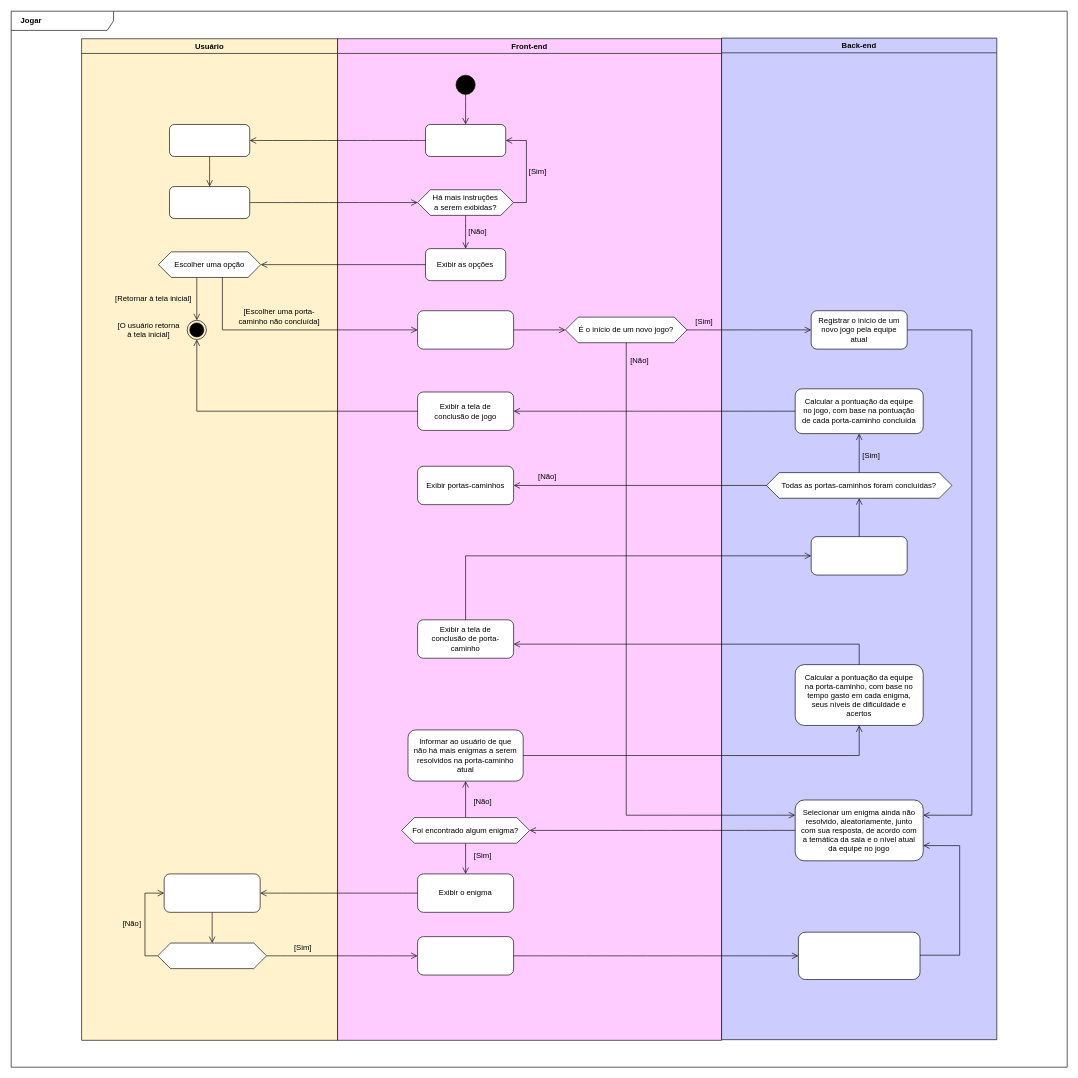
This 1078x1078 diagram has some shape labels left out. The centre of each missing label's shape, as x and y in pixels:
"Confirmar a leitura da instrução" goes at point (209, 202).
"Exibir a tela de conclusão de enigma" goes at point (465, 955).
"Exibir uma instrução de jogo" goes at point (465, 140).
"Exibir uma sala com a temática da porta-caminho escolhida" goes at point (465, 329).
"Ler a instrução" goes at point (209, 140).
"Marcar a porta-caminho como concluída" goes at point (859, 555).
"O enigma foi solucionado?" goes at point (212, 955).
"Registrar a solução da equipe para o enigma, junto com o tempo gasto" goes at point (859, 956).
"Solucionar o enigma" goes at point (212, 892).
